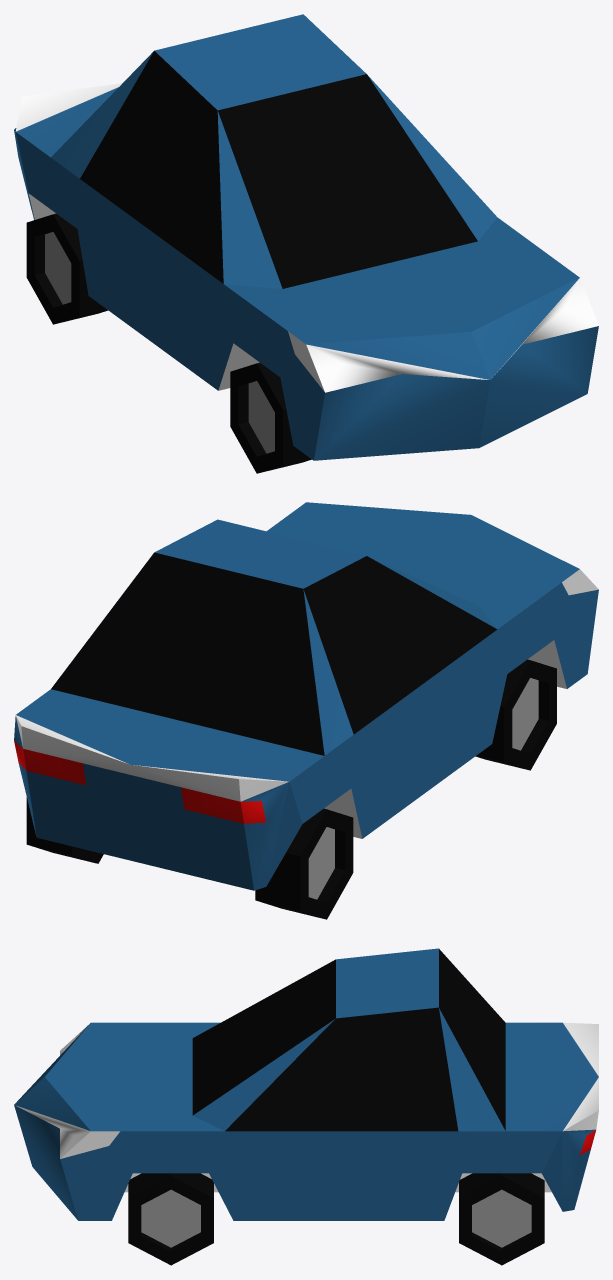
Rendered from PropCarABlue.fbx.
3 views of the same model, one above another, from view 1: azimuth 30°, elevation 25°; view 2: azimuth 150°, elevation 25°; view 3: azimuth 270°, elevation 25° (orthographic). The views are drawn at different scales.
Visible parts, largest first — view 1: PropCarABlue, PropCarARearWheels, PropCarARightWheel; view 2: PropCarABlue, PropCarARearWheels, PropCarARightWheel; view 3: PropCarABlue, PropCarARearWheels, PropCarALeftWheel.
Boxes of the visible parts, x1,y1,x2,y2 form: PropCarABlue: [14, 14, 598, 460]; PropCarARearWheels: [26, 213, 107, 324]; PropCarARightWheel: [230, 362, 311, 473]; PropCarABlue: [14, 502, 598, 890]; PropCarARearWheels: [26, 797, 353, 919]; PropCarARightWheel: [475, 659, 556, 770]; PropCarABlue: [14, 948, 598, 1220]; PropCarARearWheels: [459, 1173, 544, 1265]; PropCarALeftWheel: [128, 1173, 213, 1265].
Bounding box in the file's own units: 94.27 × 94.5 × 215.
Materials: 1 (1 with a texture image).
